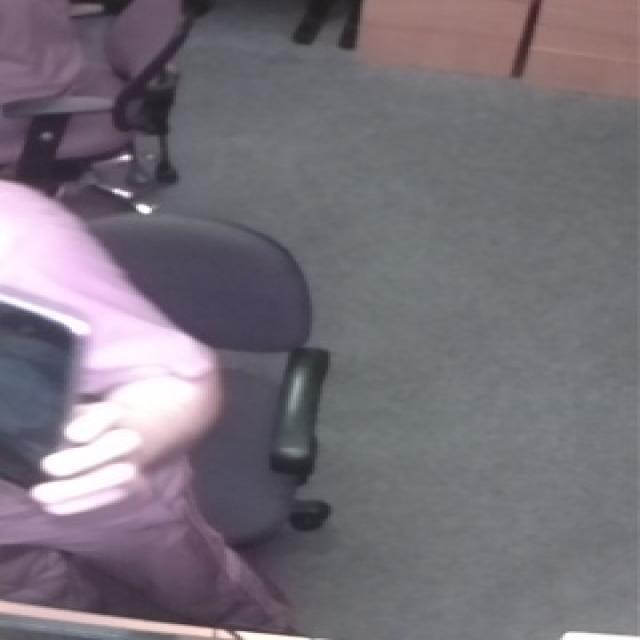phone: (0, 272, 118, 496)
